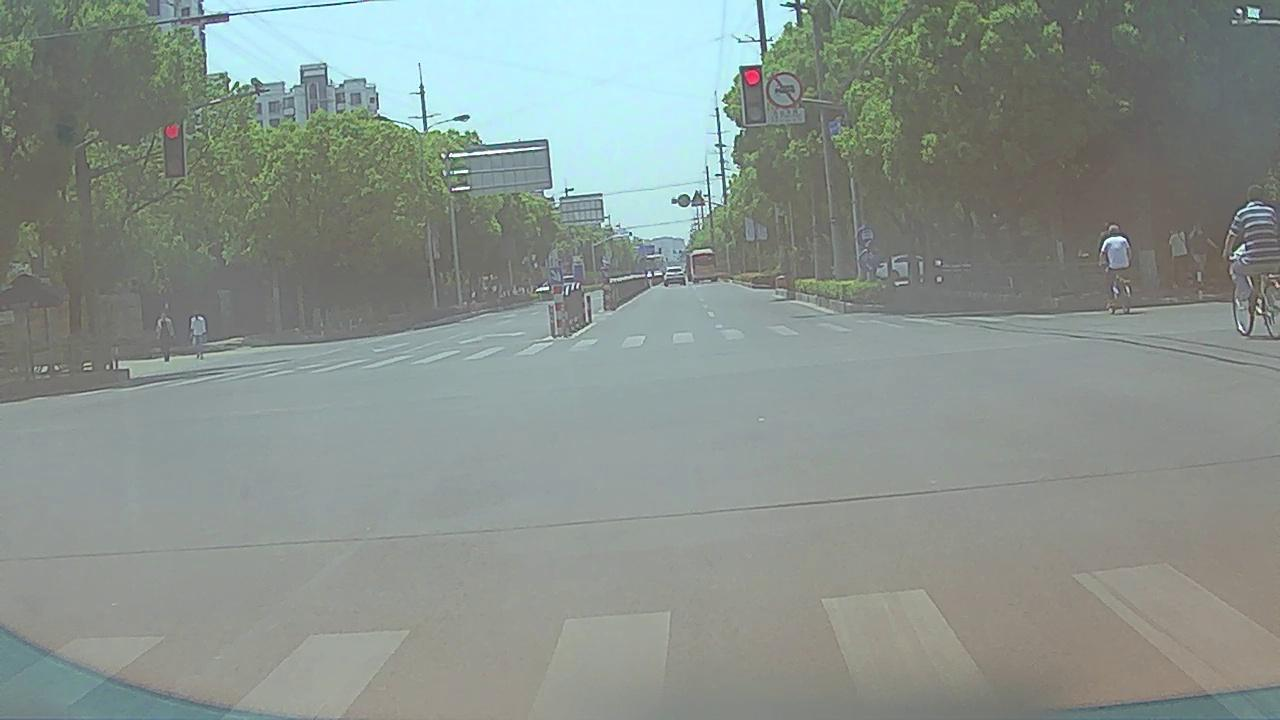traffic_light: (742, 67, 767, 122), (163, 119, 186, 178)
